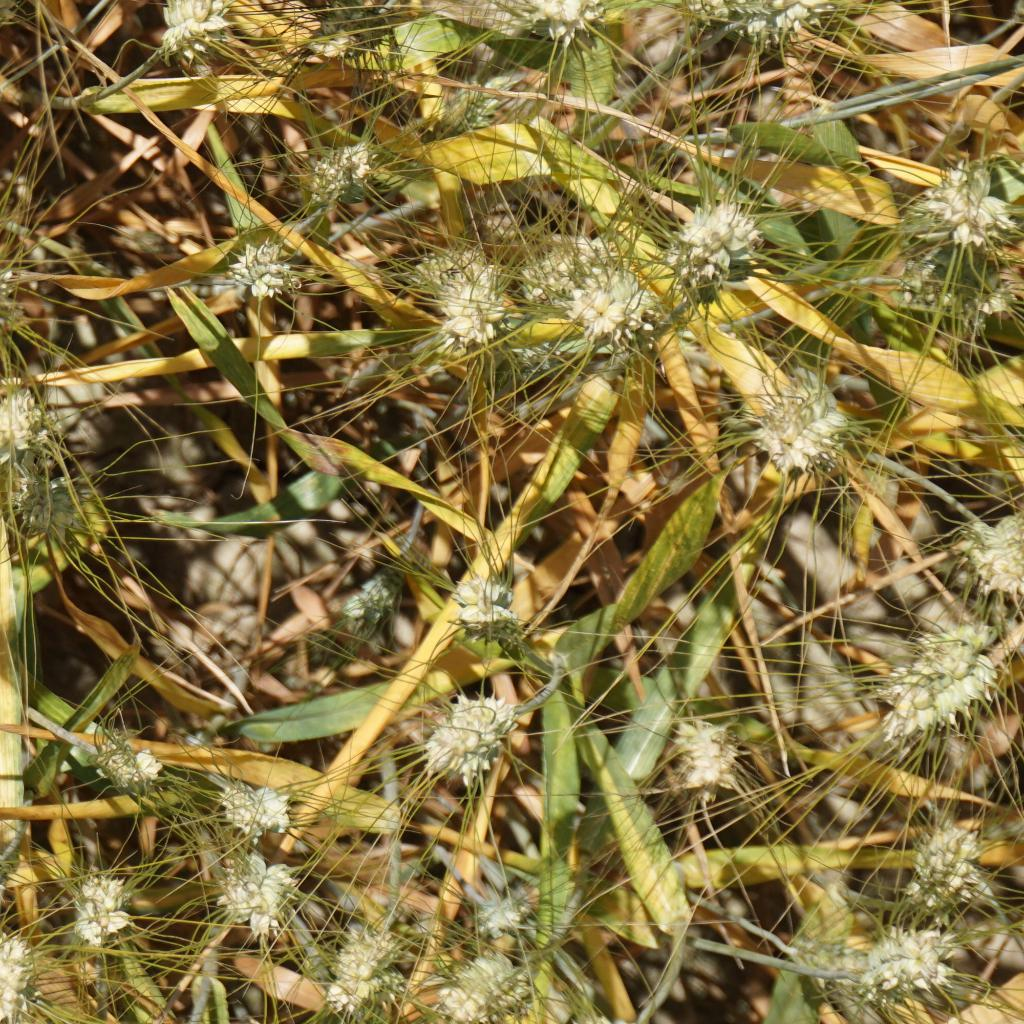0-0: (739, 378, 862, 484), (888, 611, 994, 728), (423, 685, 535, 788), (659, 195, 760, 289), (207, 839, 296, 935), (12, 455, 93, 547), (897, 251, 991, 328), (322, 930, 407, 1008), (915, 824, 984, 920), (439, 955, 534, 1024), (566, 265, 651, 340), (223, 236, 304, 304), (870, 931, 954, 995), (934, 169, 1005, 244), (217, 778, 296, 842), (95, 735, 167, 805), (448, 567, 520, 637), (666, 716, 734, 790), (332, 552, 403, 622), (960, 513, 1024, 590), (427, 76, 509, 136), (741, 0, 845, 47), (296, 139, 375, 192), (75, 873, 133, 944), (436, 272, 494, 343), (316, 4, 389, 60), (166, 0, 235, 59), (509, 246, 593, 293), (794, 935, 871, 986), (501, 339, 574, 389), (528, 0, 608, 45), (0, 933, 41, 1019), (0, 386, 54, 446), (473, 892, 532, 936), (0, 88, 22, 165), (0, 0, 19, 23)
